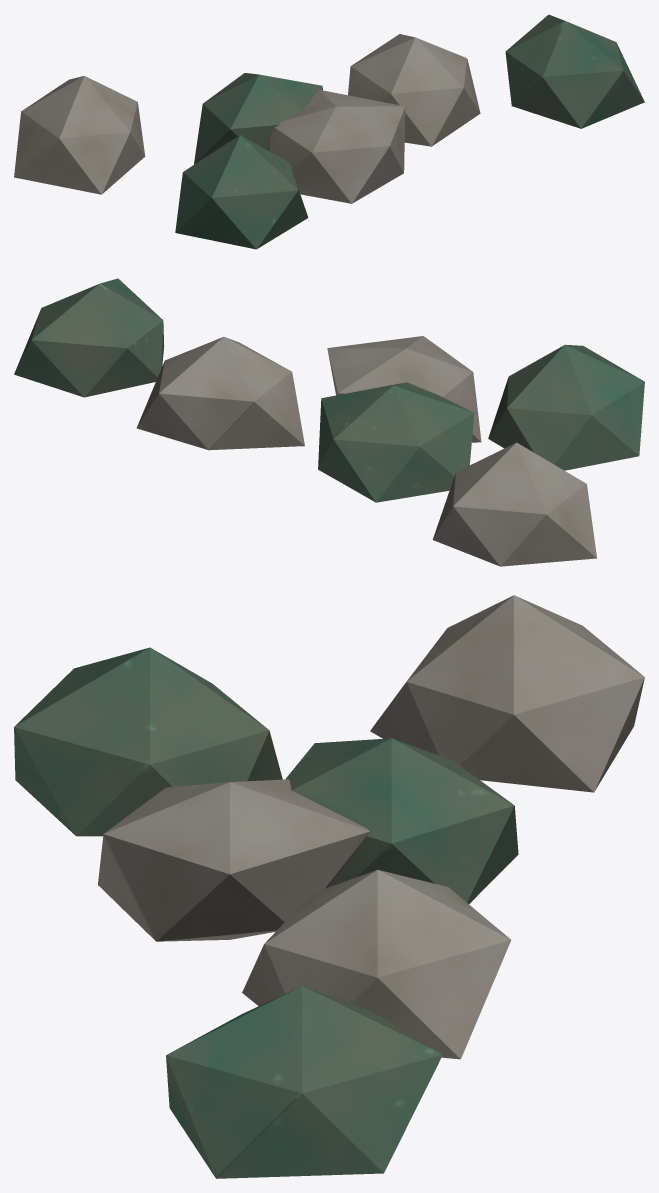
File: jazida_cobre.glb
The picture shows the model from 3 angles, top to bottom: view 1: azimuth 30°, elevation 25°; view 2: azimuth 150°, elevation 25°; view 3: azimuth 270°, elevation 25°; orthographic projection. The views are drawn at different scales.
Visible parts, largest first — view 1: jazida_cobre; view 2: jazida_cobre; view 3: jazida_cobre.
Part boxes in pixels (box(x1,y1,x2,y2)): jazida_cobre: box(14, 14, 644, 249); jazida_cobre: box(14, 278, 644, 566); jazida_cobre: box(14, 595, 644, 1178).
Size of the model in its own units: 0.6526 by 0.1166 by 0.3533.
Materials: 1 (1 with a texture image).
